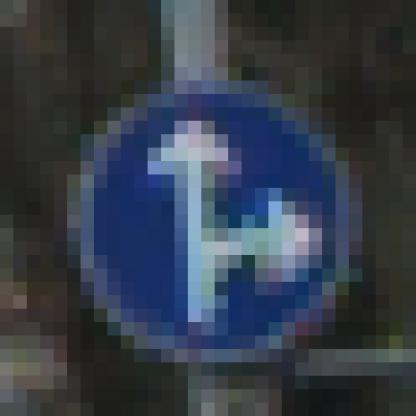Straight or Right: (68, 68, 337, 350)
